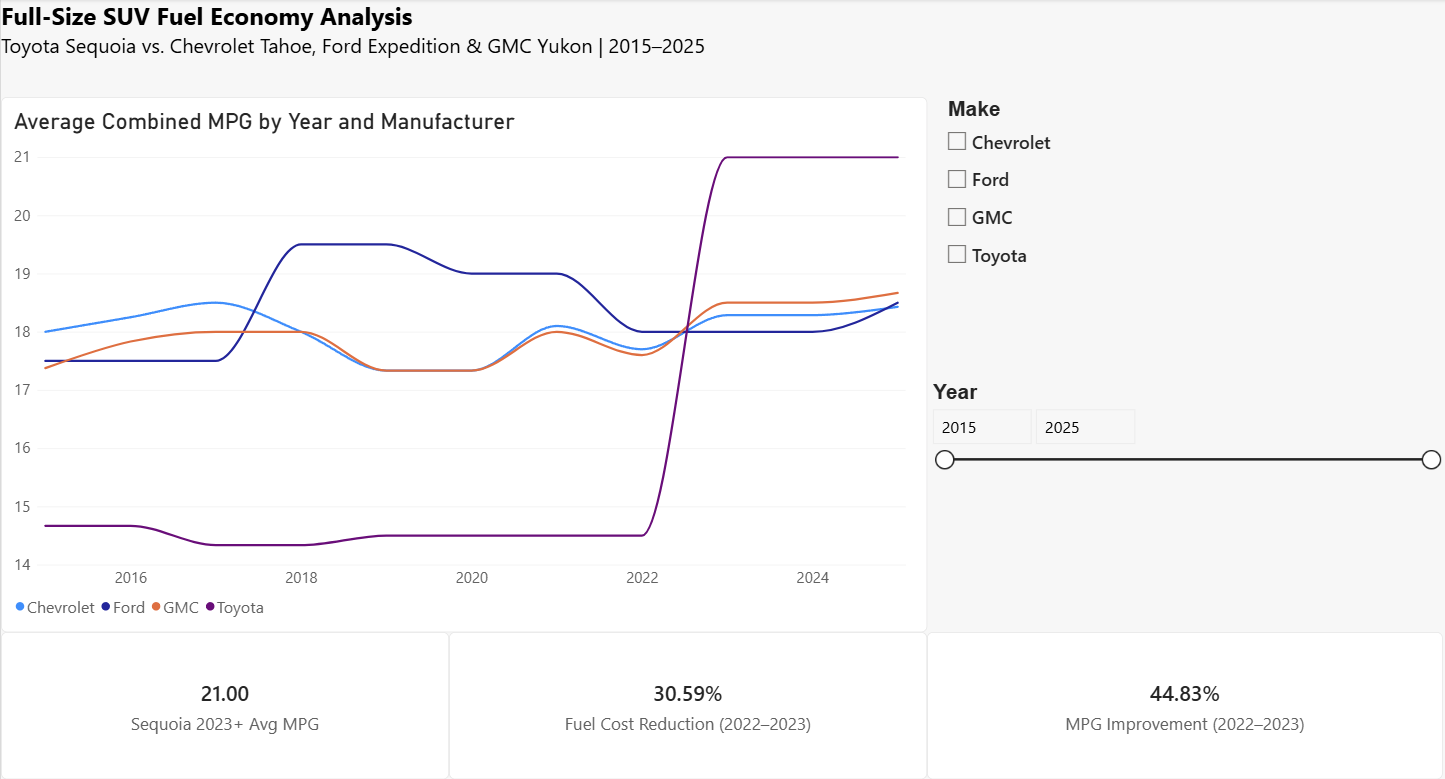

What the dashboard file says about the page in this screenshot:
{"tool":"powerbi","page":{"name":"Page 1","canvas":[1920,1080],"ordinal":0},"visuals":[{"type":"lineChart","title":"Average Combined MPG by Year and Manufacturer","fields":{"Category":["suv_ownership_analysis full_size_suv_competitors.year"],"Series":["suv_ownership_analysis full_size_suv_competitors.make"],"Y":["Avg(suv_ownership_analysis full_size_suv_competitors.comb08)"]},"box":[0,130.2,1231.6,712.3],"z":0},{"type":"card","fields":{"Values":["suv_ownership_analysis full_size_suv_competitors.Sequoia 2023+ Avg MPG"]},"box":[0,841.9,595.9,195.5],"z":1000},{"type":"slicer","fields":{"Values":["suv_ownership_analysis full_size_suv_competitors.make"]},"box":[1251.1,130.2,667.4,335.2],"z":2000},{"type":"textbox","box":[0,0,1221,130.3],"z":3000},{"type":"card","fields":{"Values":["suv_ownership_analysis full_size_suv_competitors.Toyota MPG Improvement %"]},"box":[1231.6,841.9,686.3,195.5],"z":4000},{"type":"card","fields":{"Values":["suv_ownership_analysis full_size_suv_competitors.fuel cost reduction percentage"]},"box":[595.9,841.9,635.8,195.5],"z":5000},{"type":"slicer","fields":{"Values":["suv_ownership_analysis full_size_suv_competitors.year"]},"box":[1231.6,507.3,686.9,232],"z":6000}]}

Visuals, with their boxes on the page's 1920x1080 design canvas (x1, y1, x2, y2). These are canvas units, not pixel positions in the 1445x779 screenshot, which may show the page scaled, cropped or inside an application window:
"Average Combined MPG by Year and Manufacturer" lineChart: pyautogui.locateOnScreen(0, 130, 1232, 842)
card - suv_ownership_analysis full_size_suv_competitors.Sequoia 2023+ Avg MPG: pyautogui.locateOnScreen(0, 842, 596, 1037)
slicer - suv_ownership_analysis full_size_suv_competitors.make: pyautogui.locateOnScreen(1251, 130, 1918, 465)
textbox: pyautogui.locateOnScreen(0, 0, 1221, 130)
card - suv_ownership_analysis full_size_suv_competitors.Toyota MPG Improvement %: pyautogui.locateOnScreen(1232, 842, 1918, 1037)
card - suv_ownership_analysis full_size_suv_competitors.fuel cost reduction percentage: pyautogui.locateOnScreen(596, 842, 1232, 1037)
slicer - suv_ownership_analysis full_size_suv_competitors.year: pyautogui.locateOnScreen(1232, 507, 1918, 739)
